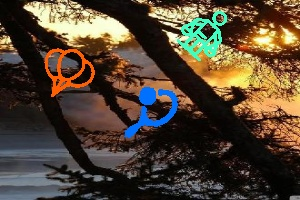人两袋: (178, 11, 228, 60)
拍子连球: (126, 86, 177, 140)
球拍: (46, 47, 95, 96)
